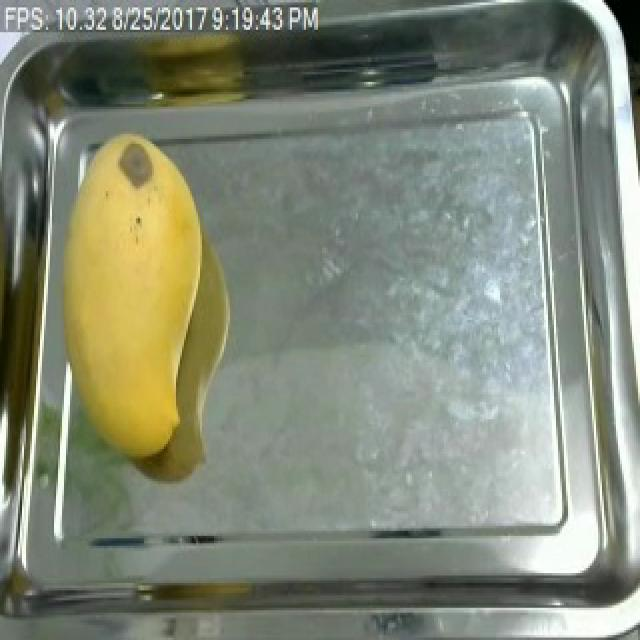fruit: (50, 124, 222, 474)
